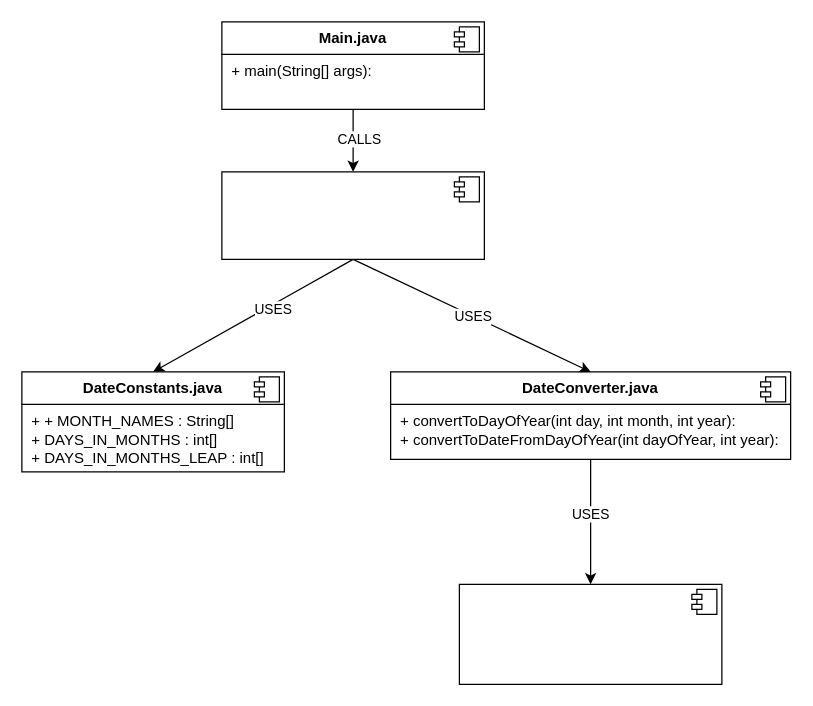
This 813x706 diagram has some shape labels left out. The shapes that lost their labels are listed below. From the top down, each one's centre as x and y in pixels, then its label:
[352,215]: DisplayHelper .java + printCalendarHeader(): + printDateInfo(String date):
[590,633]: MathUtils .java + isLeapYear(int year): + abs(int number): + max(int a, int b)
